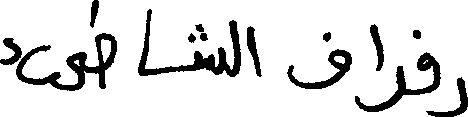ئ: (0, 36, 89, 91)
ا: (136, 6, 153, 76), (367, 21, 384, 72), (246, 23, 260, 76)
ر: (439, 62, 466, 114), (383, 47, 405, 110)
ش: (184, 23, 224, 75)
ط: (90, 0, 117, 89)
ف: (285, 30, 351, 90), (417, 28, 440, 116)
ل: (228, 17, 241, 77)
